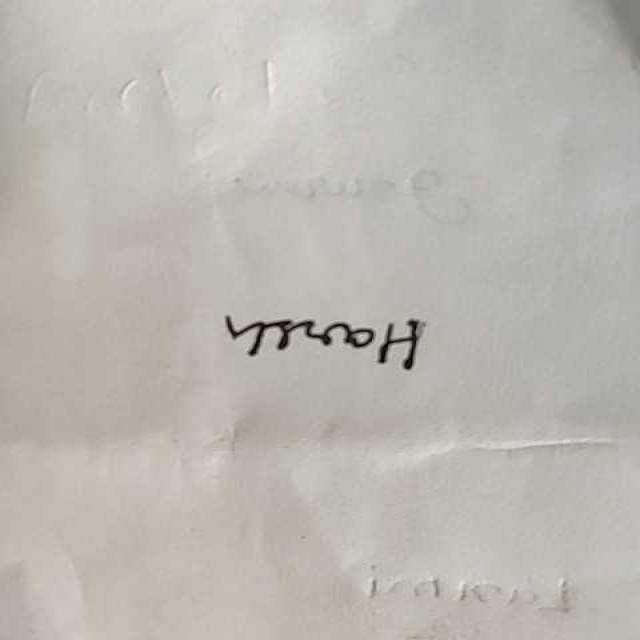signature: (216, 304, 432, 378)
